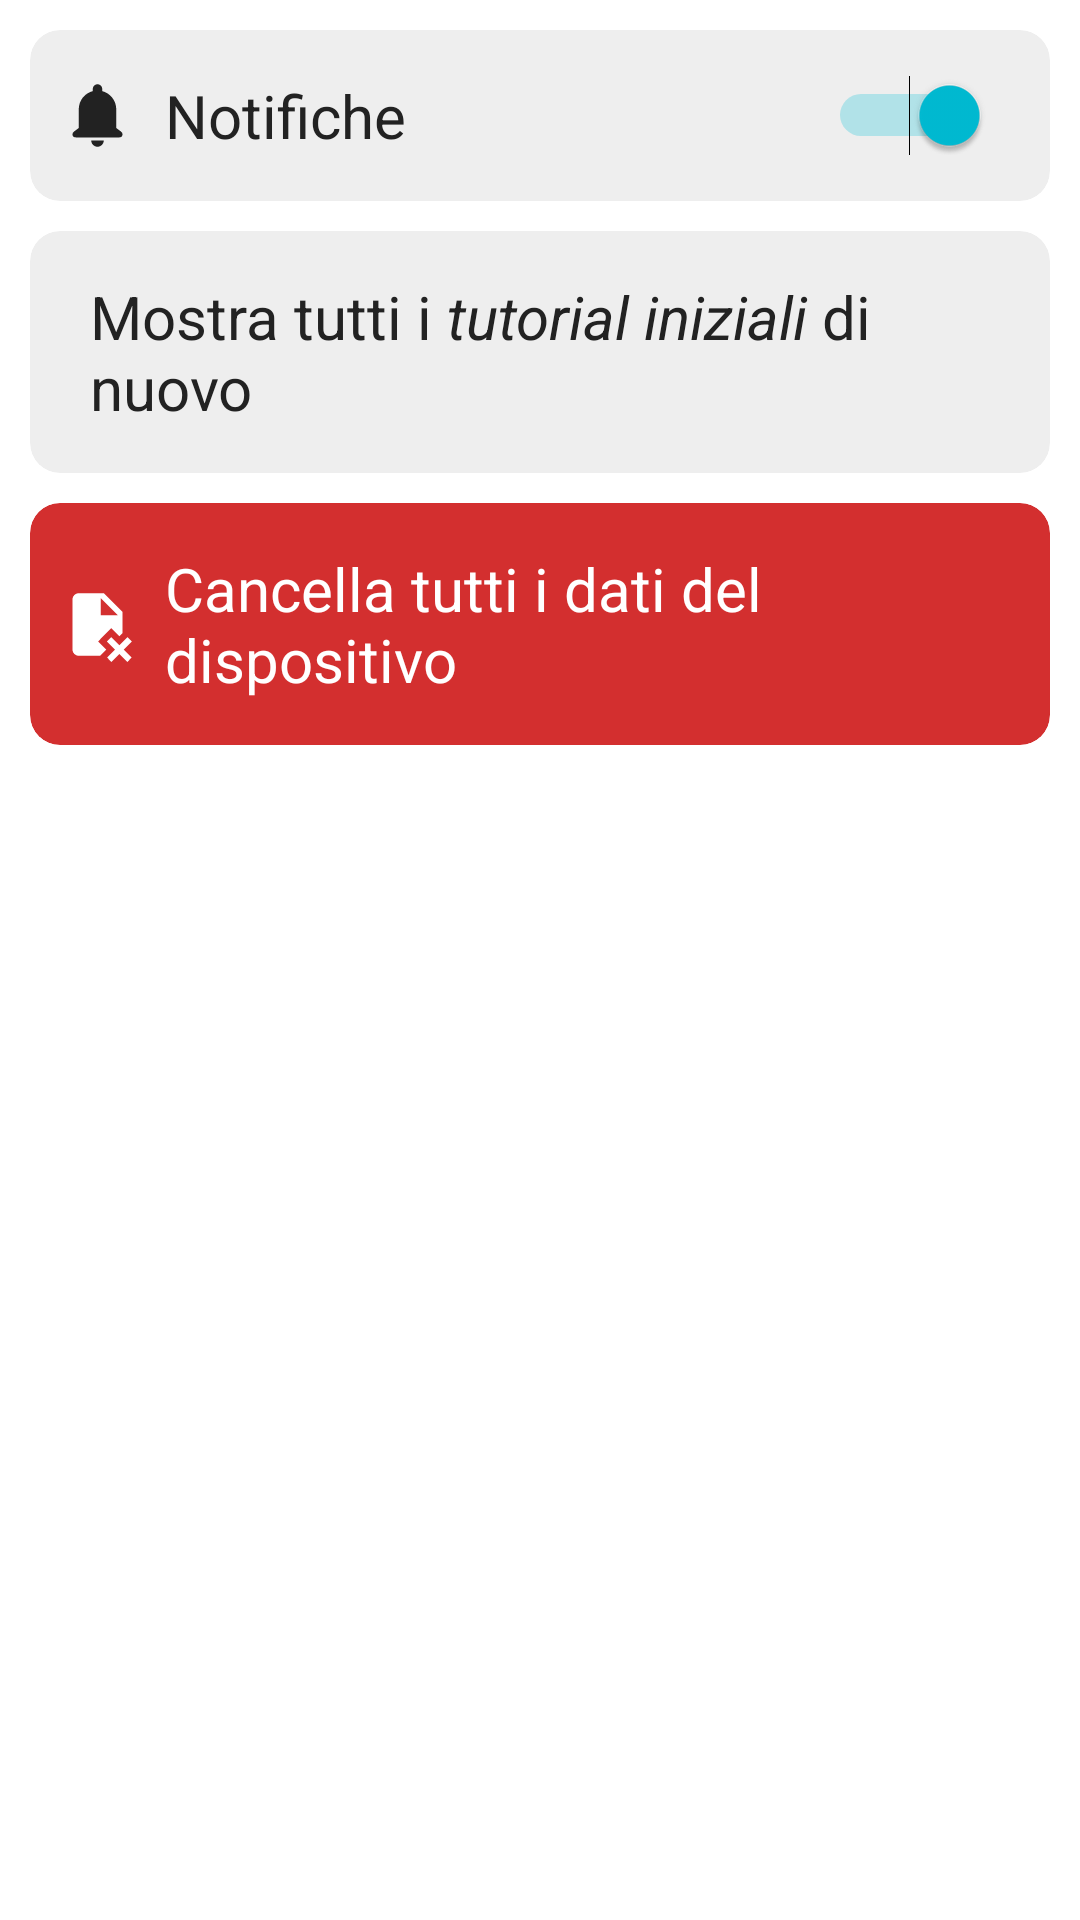

Where icons sit on this 1080×1920 app screen, as region(x1, y1, x2, y2):
delete device data: region(72, 593, 132, 662)
notification: region(72, 84, 123, 147)
